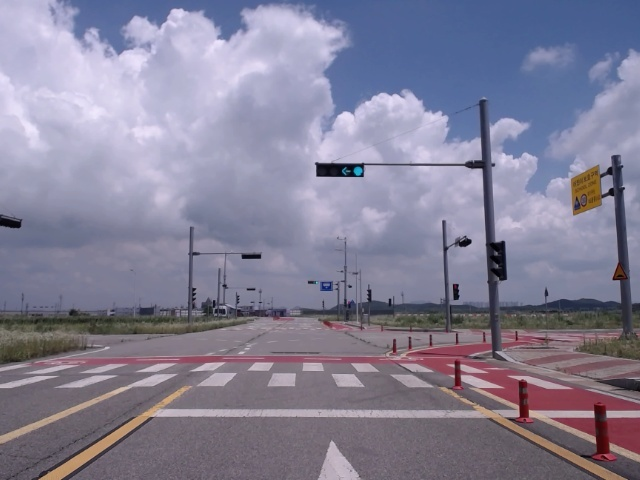all_green_4: (314, 163, 364, 176)
